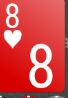Heart: (3, 30, 22, 48)
